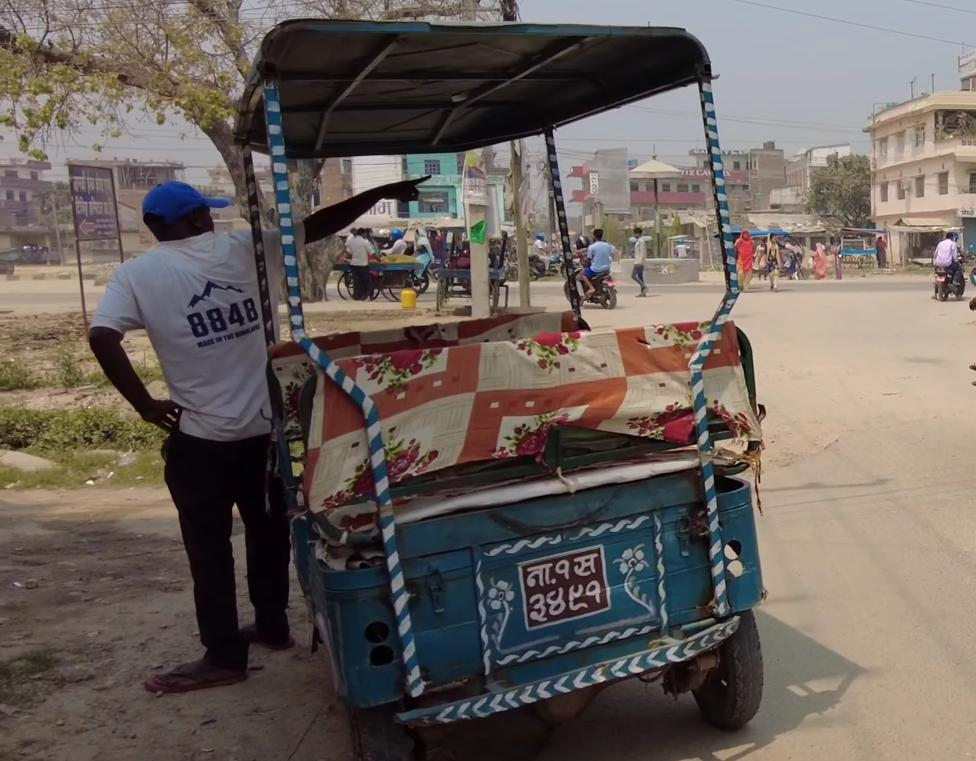e-rickshaw: (216, 11, 778, 761)
